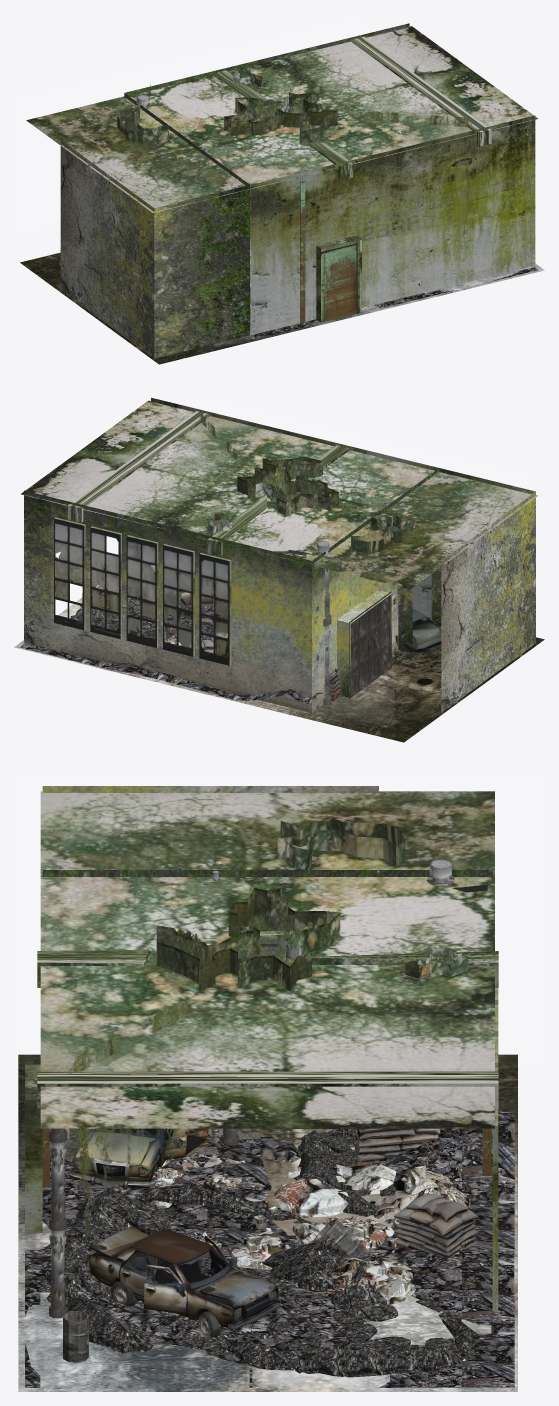
The model's file is garage.glb.
3 views of the same model, one above another, from view 1: azimuth 30°, elevation 25°; view 2: azimuth 150°, elevation 25°; view 3: azimuth 270°, elevation 25° (orthographic). The views are drawn at different scales.
Visible parts, largest first — view 1: Cube, Plane.001, Plane, Cube.004, Cube.003, Plane.003, Cube.005, Plane.014; view 2: Cube, Plane.001, Cube.001, Plane, Plane.002, Plane.003, Cube.004, Cube.003, node_0.004_Material.020_0, Cylinder.007, node_0.002_Material.015_0, node_0.005_Material.023_0; view 3: Plane.001, Plane.003, Plane, node_0_Material.015_0, node_0.003_Material.017_0, node_0.001_Material.016_0, node_0.002_Material.015_0, Cube, Cube.004, node_0.005_Material.023_0, node_0.004_Material.020_0, Plane.014 (+8 smaller).
Boxes of the visible parts, x1=… form: Cube: x1=60, y1=23, x2=535, y2=358; Plane.001: x1=26, y1=26, x2=538, y2=212; Plane: x1=20, y1=241, x2=544, y2=364; Cube.004: x1=350, y1=36, x2=491, y2=146; Cube.003: x1=213, y1=70, x2=353, y2=180; Plane.003: x1=250, y1=210, x2=538, y2=339; Cube.005: x1=300, y1=180, x2=305, y2=323; Plane.014: x1=367, y1=111, x2=472, y2=126; Cube: x1=24, y1=397, x2=535, y2=712; Plane.001: x1=21, y1=400, x2=537, y2=589; Cube.001: x1=54, y1=517, x2=231, y2=665; Plane: x1=14, y1=565, x2=544, y2=742; Plane.002: x1=349, y1=591, x2=391, y2=698; Plane.003: x1=20, y1=603, x2=431, y2=704; Cube.004: x1=68, y1=411, x2=210, y2=522; Cube.003: x1=207, y1=445, x2=349, y2=556; node_0.004_Material.020_0: x1=393, y1=609, x2=441, y2=652; Cylinder.007: x1=315, y1=541, x2=331, y2=705; node_0.002_Material.015_0: x1=70, y1=597, x2=176, y2=639; node_0.005_Material.023_0: x1=188, y1=640, x2=340, y2=701; Plane.001: x1=40, y1=791, x2=494, y2=1128; Plane.003: x1=25, y1=1111, x2=514, y2=1387; Plane: x1=18, y1=1054, x2=517, y2=1391; node_0_Material.015_0: x1=41, y1=1182, x2=371, y2=1354; node_0.003_Material.017_0: x1=88, y1=1225, x2=279, y2=1337; node_0.001_Material.016_0: x1=193, y1=1164, x2=470, y2=1304; node_0.002_Material.015_0: x1=227, y1=1275, x2=479, y2=1377; Cube: x1=25, y1=786, x2=492, y2=1232; Cube.004: x1=37, y1=1071, x2=498, y2=1108; node_0.005_Material.023_0: x1=351, y1=1128, x2=478, y2=1257; node_0.004_Material.020_0: x1=68, y1=1128, x2=223, y2=1189; Plane.014: x1=69, y1=999, x2=187, y2=1247.
Size of the model in its own units: 6.28 by 2.71 by 4.18.
19 materials, 18 textured.
